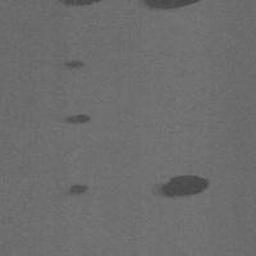Oil spot: (150, 174, 210, 202), (137, 0, 201, 12), (55, 113, 93, 125), (55, 0, 104, 9), (58, 59, 87, 72), (67, 183, 90, 197)
